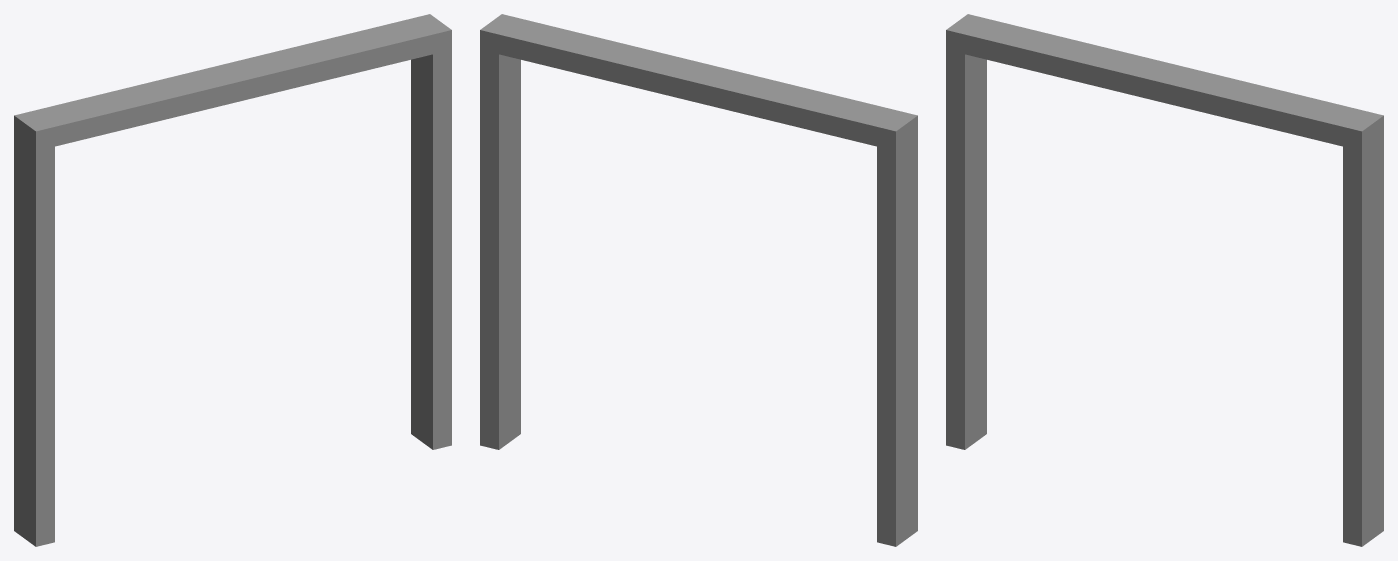
Rendered from TestDoor.obj.
3 renders of one model, left to right at view 1: azimuth 30°, elevation 25°; view 2: azimuth 150°, elevation 25°; view 3: azimuth 330°, elevation 25°, orthographic.
Size of the model in its own units: 2.2 by 2.1 by 0.2.
Materials: 1 (1 with a texture image).
